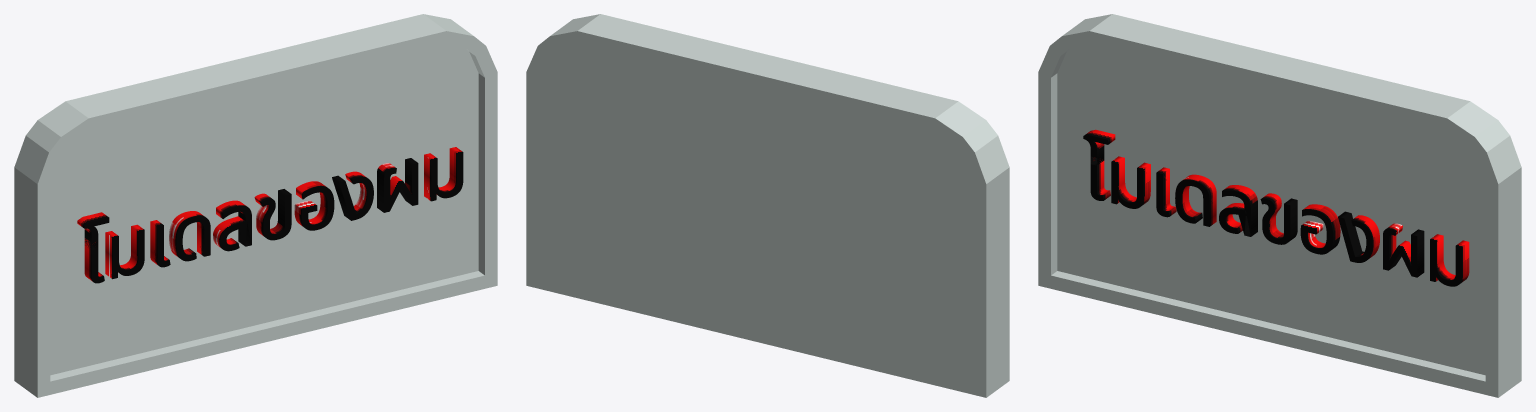
Rendered from sign.glb.
3 renders of one model, left to right at view 1: azimuth 30°, elevation 25°; view 2: azimuth 150°, elevation 25°; view 3: azimuth 330°, elevation 25°, orthographic.
Parts seen in each view (by area): view 1: Cube, Text; view 2: Cube; view 3: Cube, Text.
Part boxes in pixels (box(x1,y1,x2,y2)): Cube: box(14, 14, 497, 397); Text: box(77, 147, 463, 283); Cube: box(526, 14, 1009, 397); Cube: box(1038, 14, 1521, 397); Text: box(1083, 129, 1469, 286).
Bounding box in the file's own units: 6.72 × 3.73 × 0.6121.
Materials: 2 (1 with a texture image).
